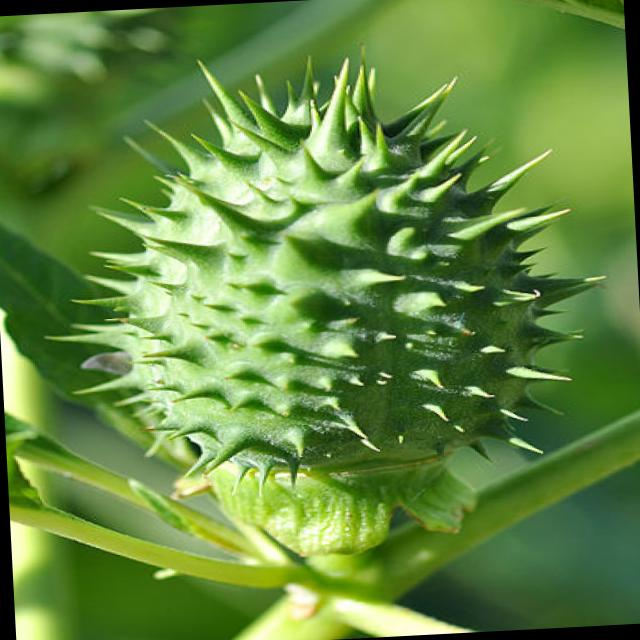Poisonous-Datura_Stramonium: (39, 26, 638, 611)
